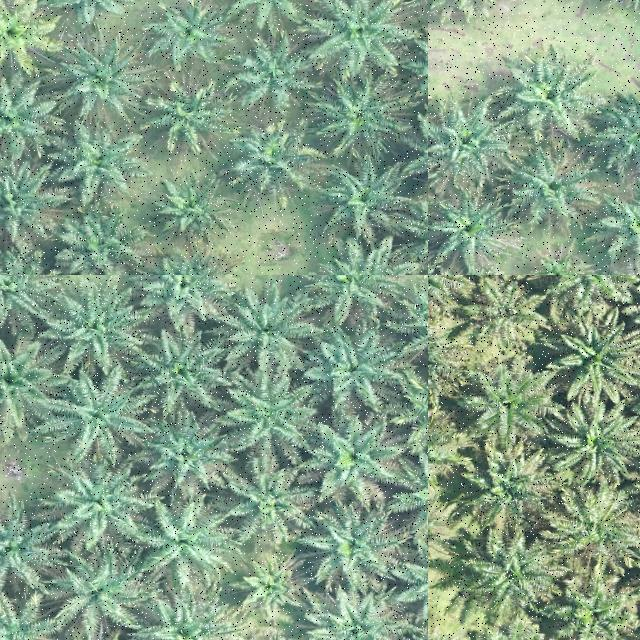Ganoderma: (0, 4, 39, 62)
